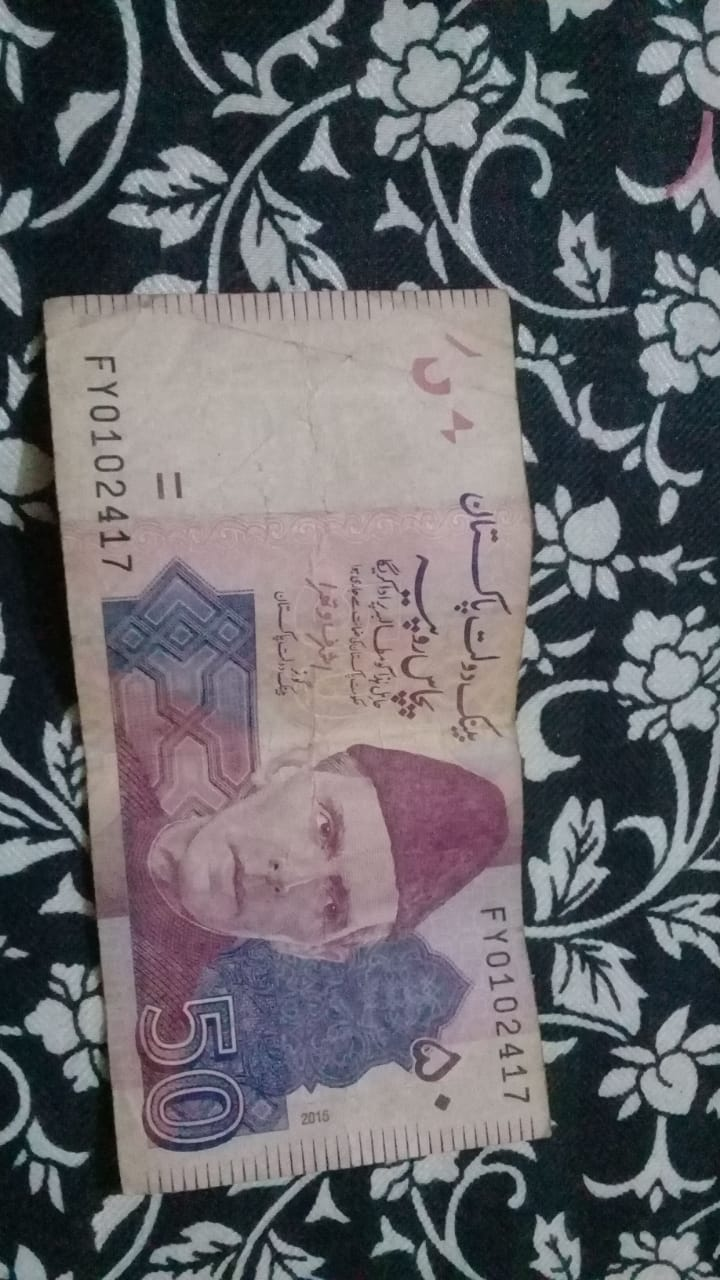50 rupee: (30, 267, 575, 1193)
